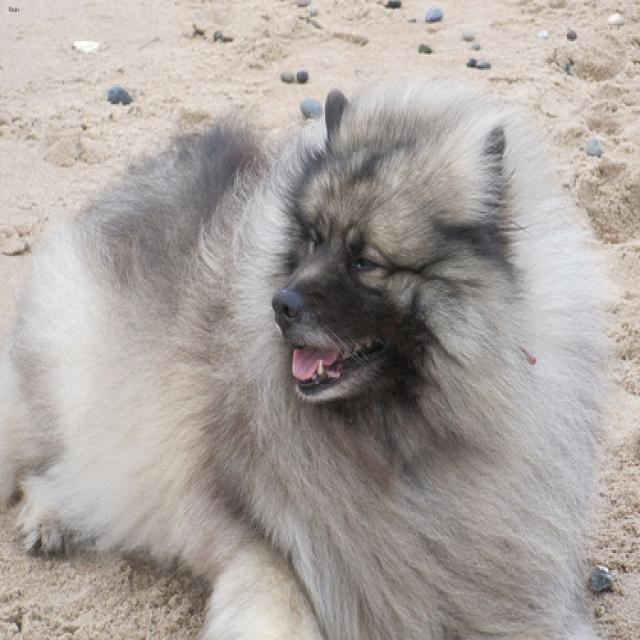dog-keeshond: (1, 65, 616, 637)
